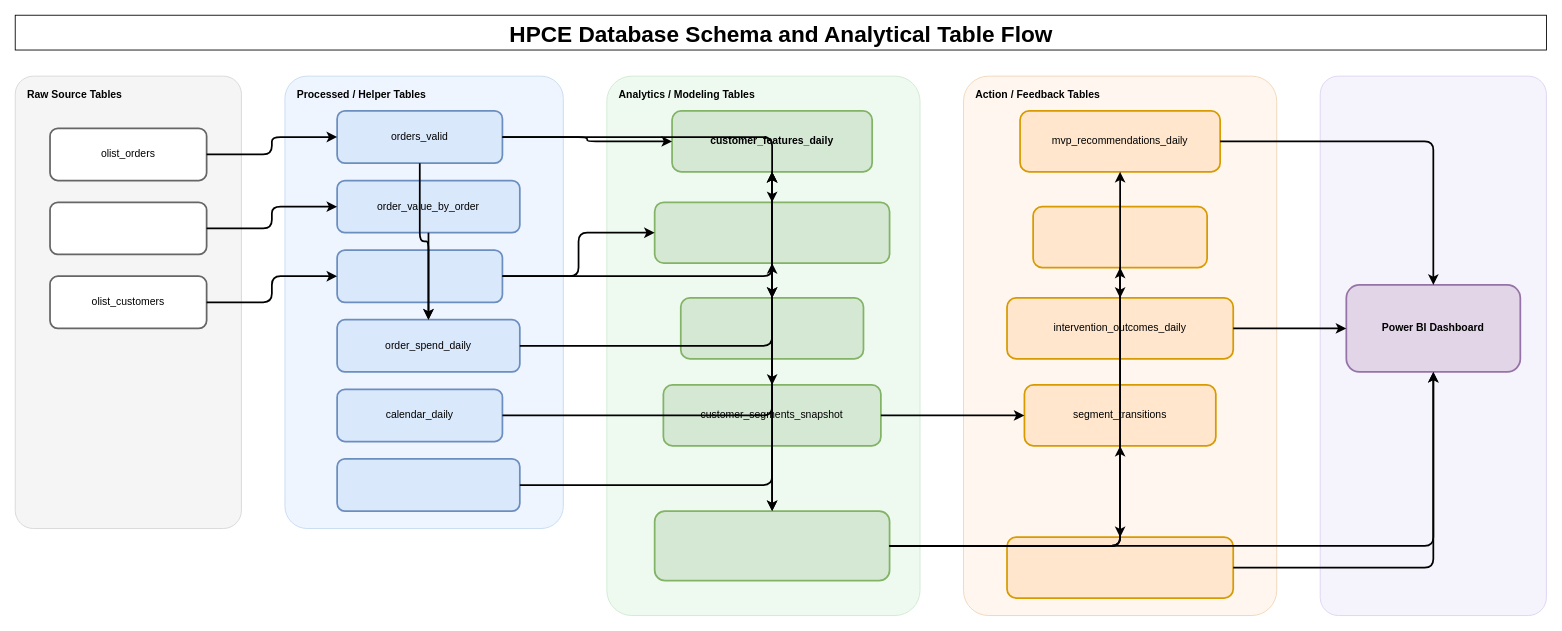
Image size: 1562x631. Some labels were removed from this diagram. The shapes that lost their labels are listed below. From the top down, each one's box as (x1, y1, x2, y2) in pixels, then its label:
(49, 201, 207, 255): olist_order_items
(653, 201, 890, 264): customer_churn_labels_by_snapshot
(1032, 205, 1208, 268): intervention_logs
(336, 249, 503, 303): customer_map
(679, 297, 864, 359): churn_model_dataset
(1319, 75, 1546, 616): Visualization Layer
(336, 458, 520, 512): snapshot_calendar
(653, 510, 890, 581): decision_engine_output_daily
(1006, 536, 1234, 599): markov_transition_matrix
